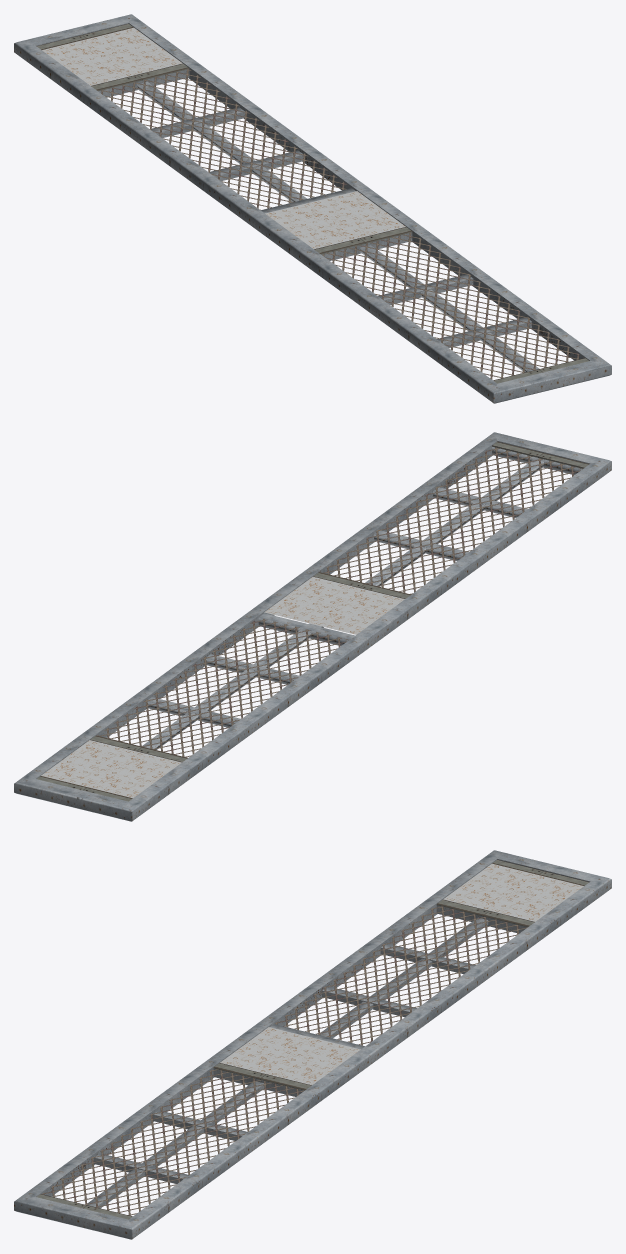
The model's file is Ob_ScafFloor_RC.fbx.
3 views of the same model, one above another, from view 1: azimuth 30°, elevation 25°; view 2: azimuth 150°, elevation 25°; view 3: azimuth 330°, elevation 25° (orthographic).
Parts seen in each view (by area): view 1: Ob_ScafFloor_RC; view 2: Ob_ScafFloor_RC; view 3: Ob_ScafFloor_RC.
Boxes of the visible parts, x1,y1,x2,y2 form: Ob_ScafFloor_RC: [14, 14, 611, 403]; Ob_ScafFloor_RC: [14, 432, 611, 821]; Ob_ScafFloor_RC: [14, 850, 611, 1239].
Bounding box in the file's own units: 210 × 19.62 × 1473.
